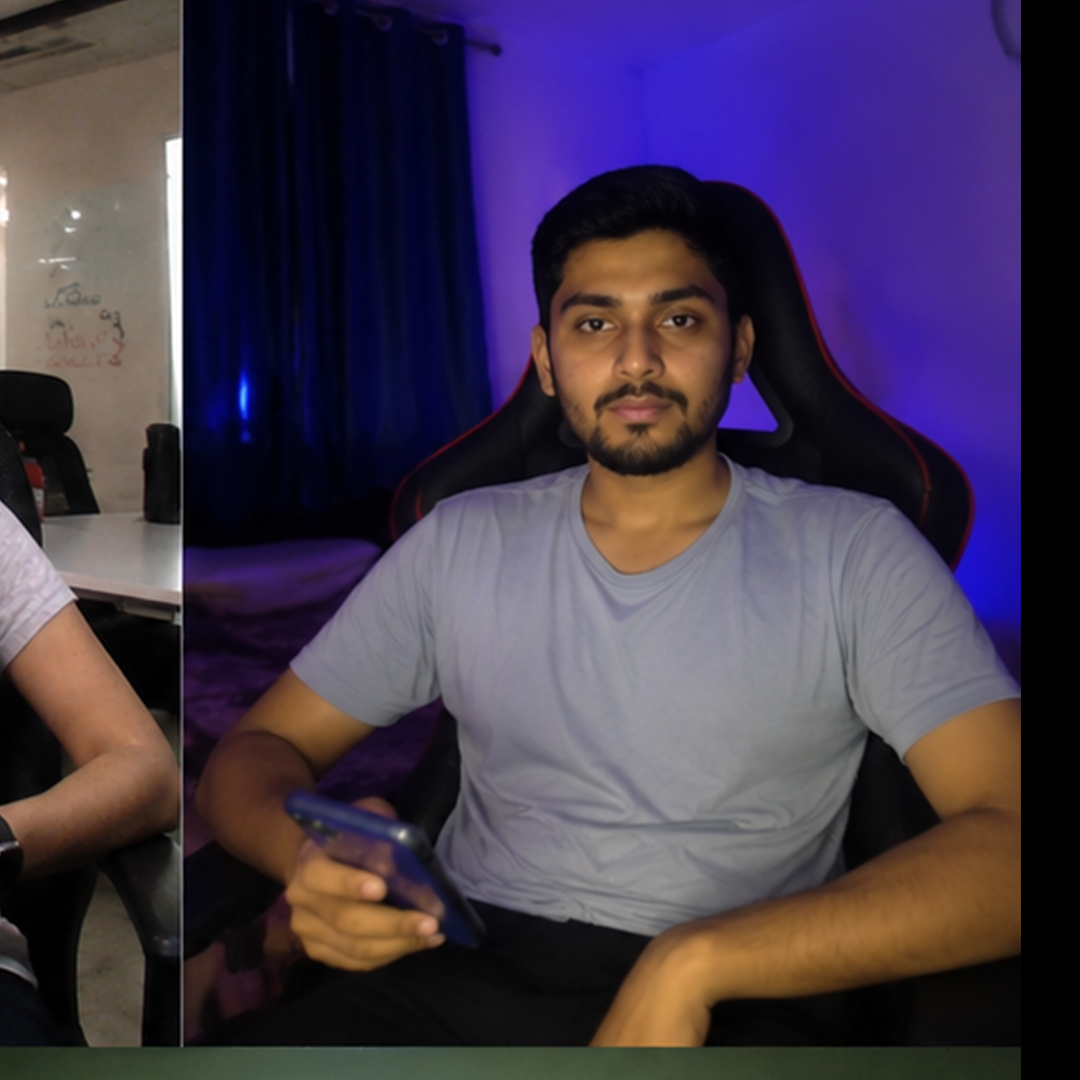Focused: (304, 61, 921, 999)
